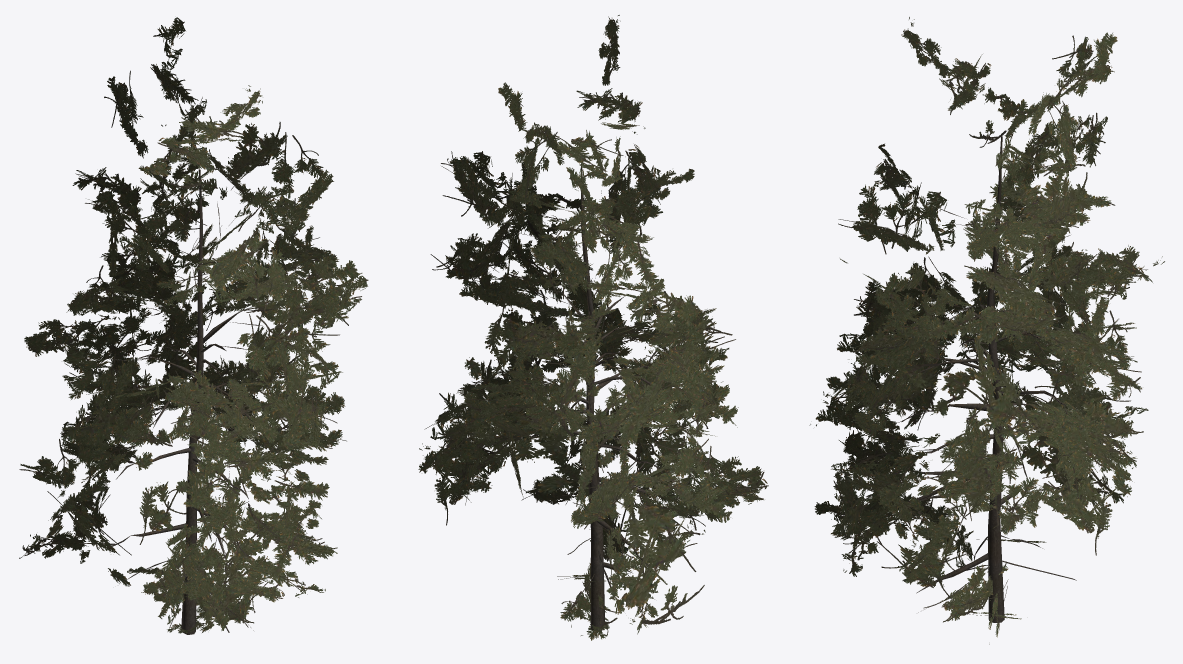
The picture shows the model from 3 angles, left to right: view 1: azimuth 30°, elevation 25°; view 2: azimuth 150°, elevation 25°; view 3: azimuth 270°, elevation 25°; orthographic projection. The views are drawn at different scales.
Visible parts, largest first — view 1: pine_sapling_medium__c_lod2; view 2: pine_sapling_medium__c_lod2; view 3: pine_sapling_medium__c_lod2.
Boxes of the visible parts, x1,y1,x2,y2 form: pine_sapling_medium__c_lod2: (19,17,368,634); pine_sapling_medium__c_lod2: (418,15,768,640); pine_sapling_medium__c_lod2: (809,17,1164,644).
Bounding box in the file's own units: 3.97 × 7.08 × 3.72.
2 materials, 2 textured.
